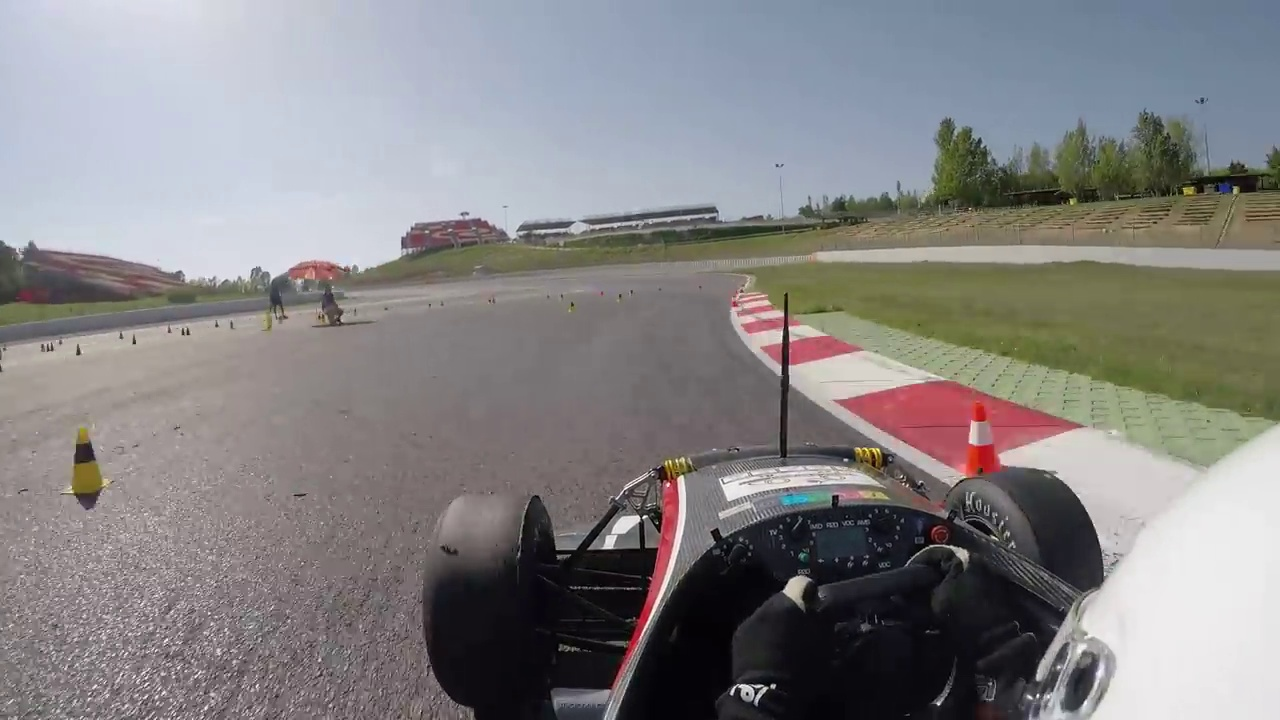Cone: (961, 398, 1004, 482), (68, 426, 109, 497)
